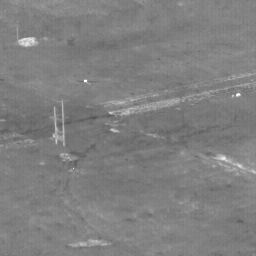aircraft: (84, 80, 86, 82)
